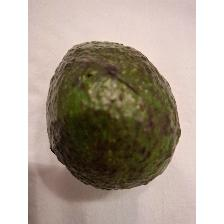Avocado: (44, 36, 184, 193)
